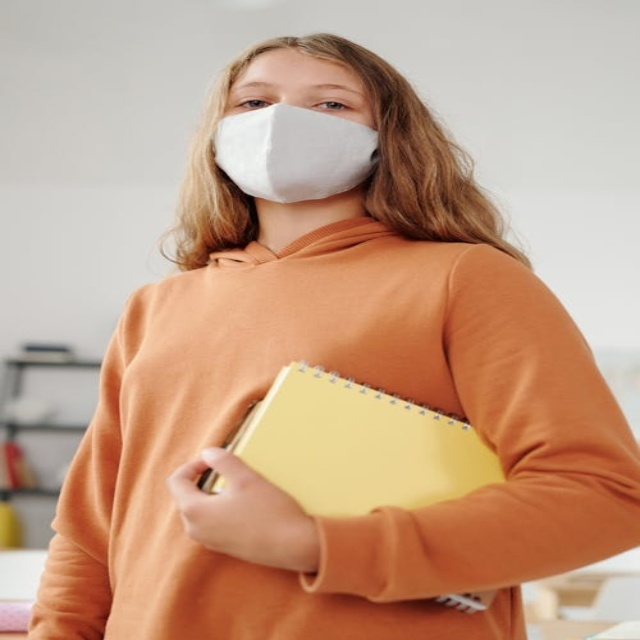Mascara: (213, 103, 383, 204)
Sin_gafas: (311, 100, 351, 111), (236, 98, 272, 109)
Sin_guantes: (163, 443, 316, 580)
